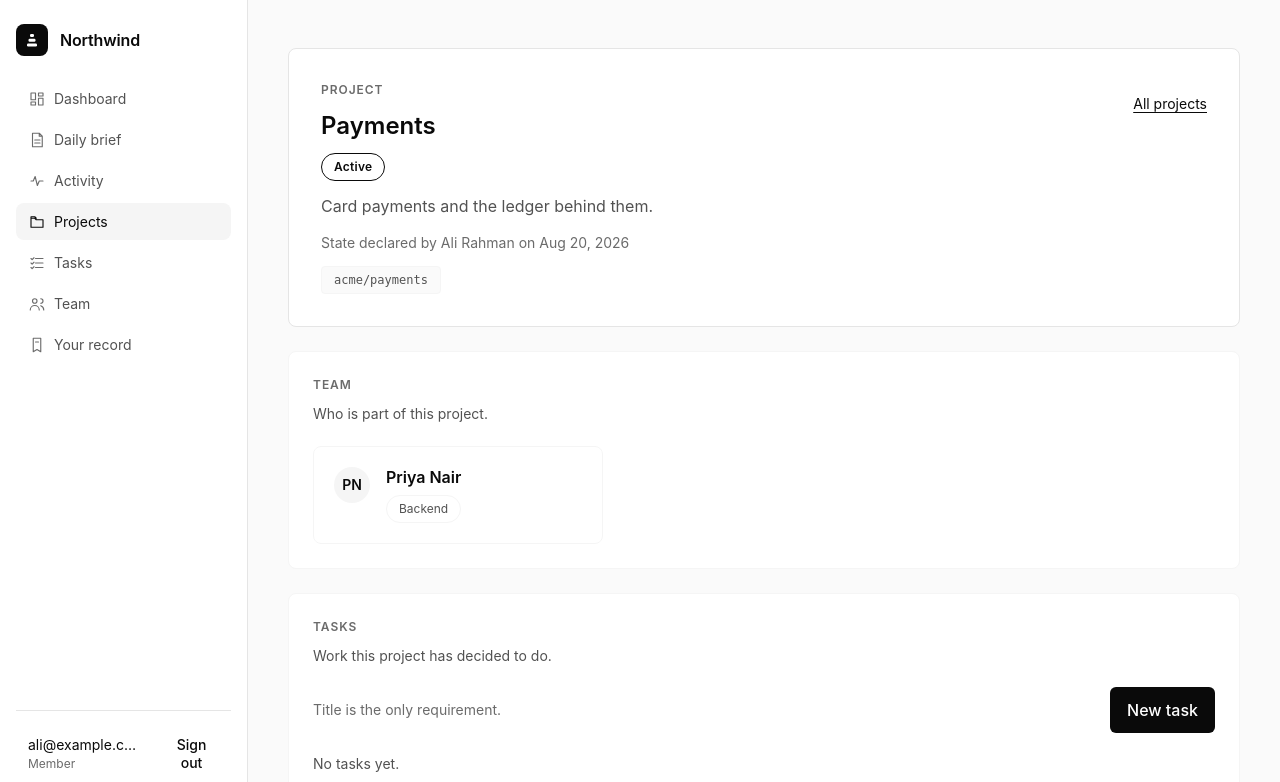
Test case: a project's task board › lets a member create a task and reloads the board with it
The width and height of the screenshot is (1280, 782).
Expected: the text "No tasks yet." is shown, [313,755,399,772]
Click the button "New task": [1163, 710] box [1110,687,1215,733]
(page scrolled)
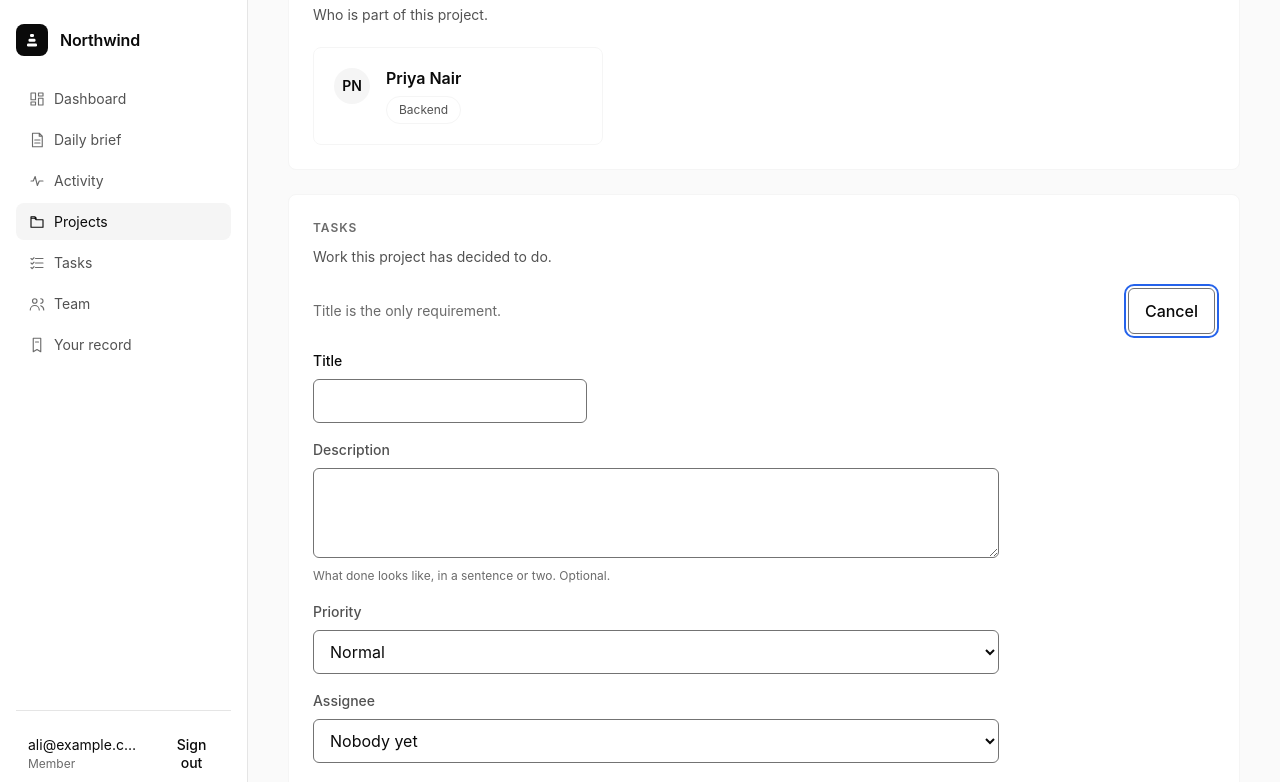
In the field labelled "Title": [450, 401] box [313,379,587,423], type "Ship rate limits"
In the text box labelled "Description": [656, 513] box [313,468,999,558], type "Cap the burst rate."
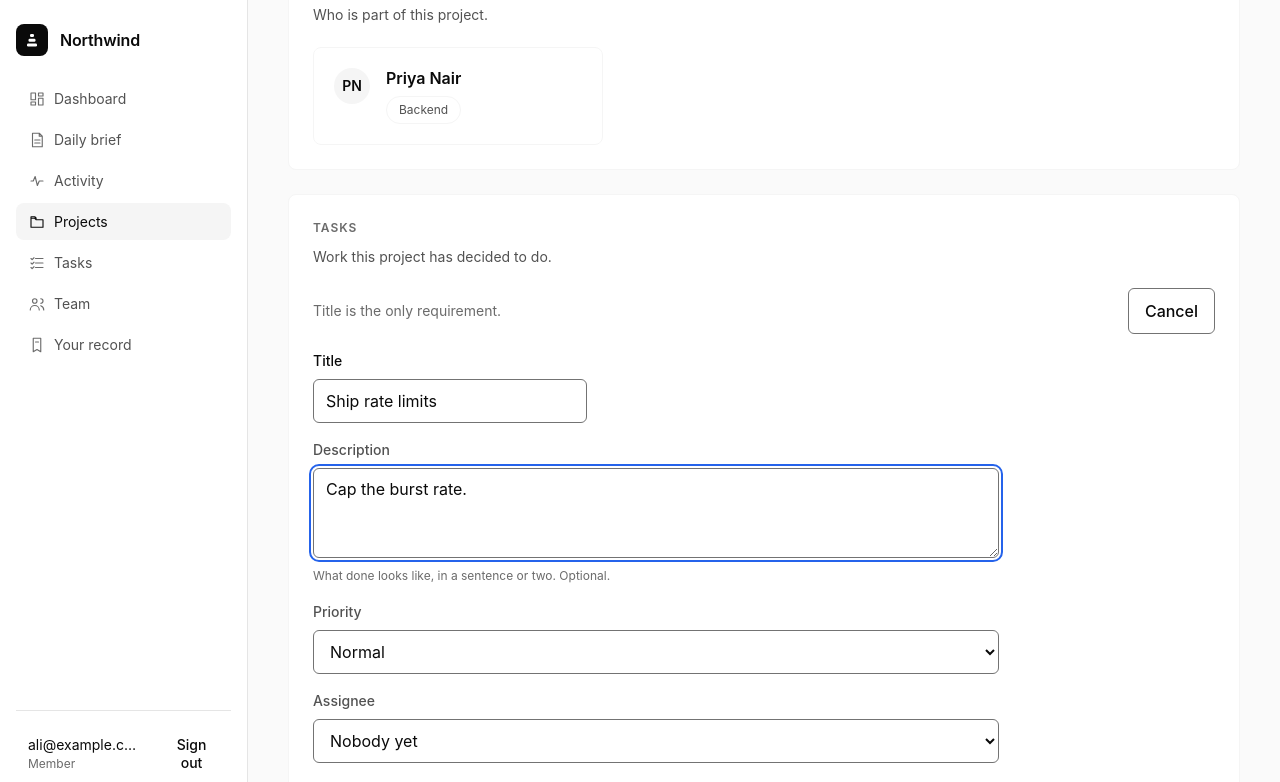
Select "High" in the dropdown labelled "Priority": [656, 652] box [313,630,999,674]
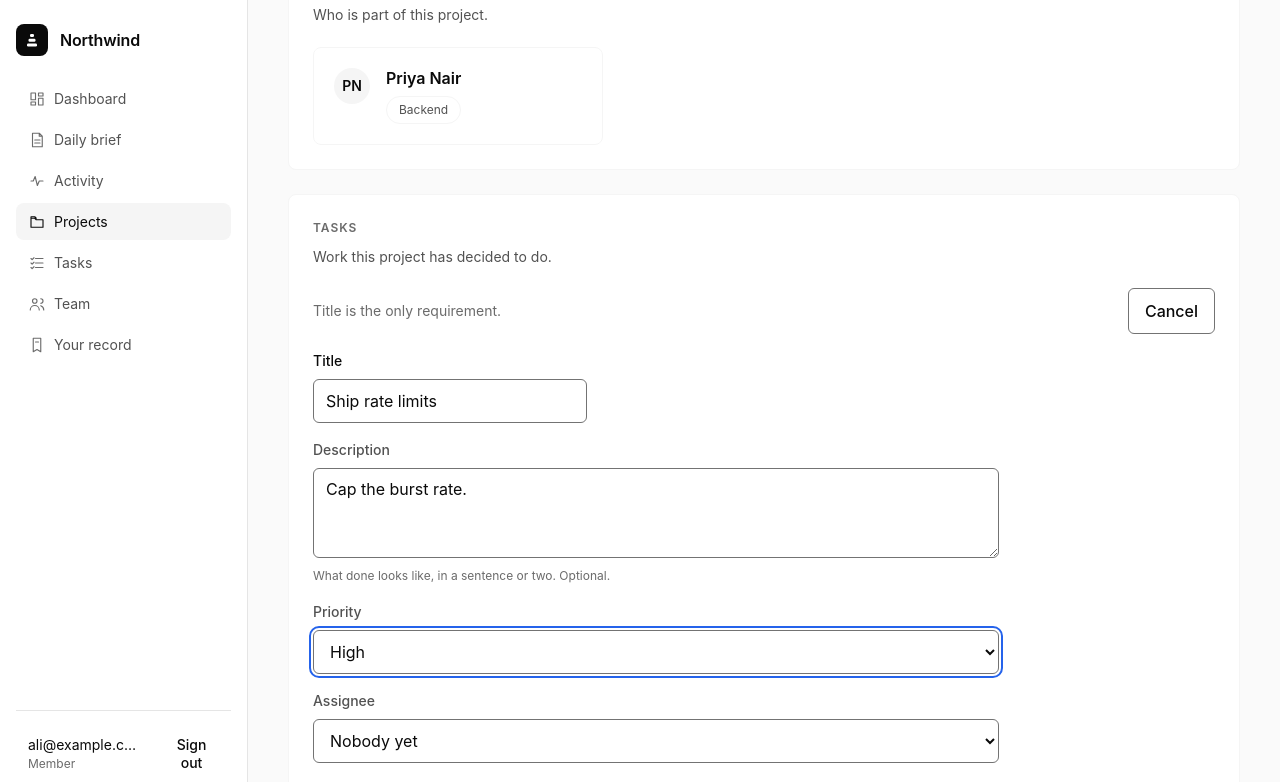
Select "Priya Nair" in the dropdown labelled "Assignee": [656, 742] box [313,720,999,764]
(page scrolled)
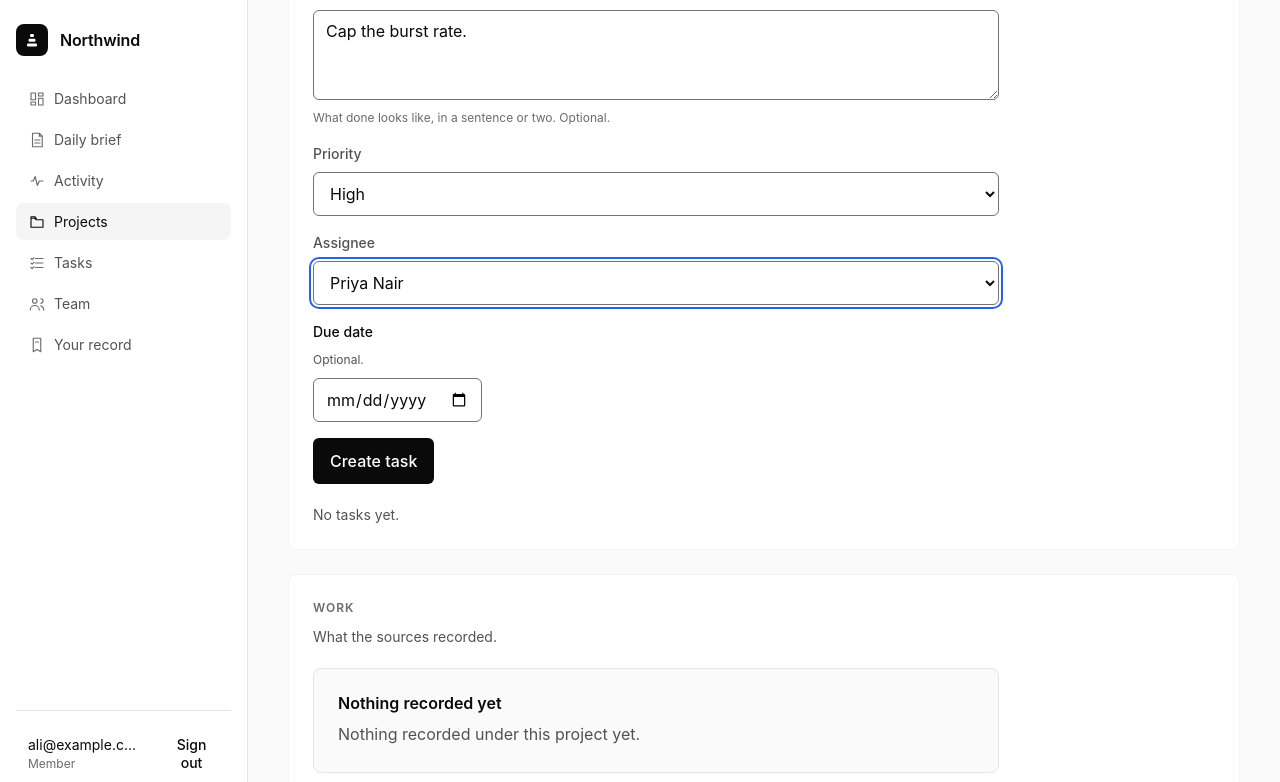
In the date field labelled "Due date": [398, 400] box [313,378,482,422], type "2026-08-30"
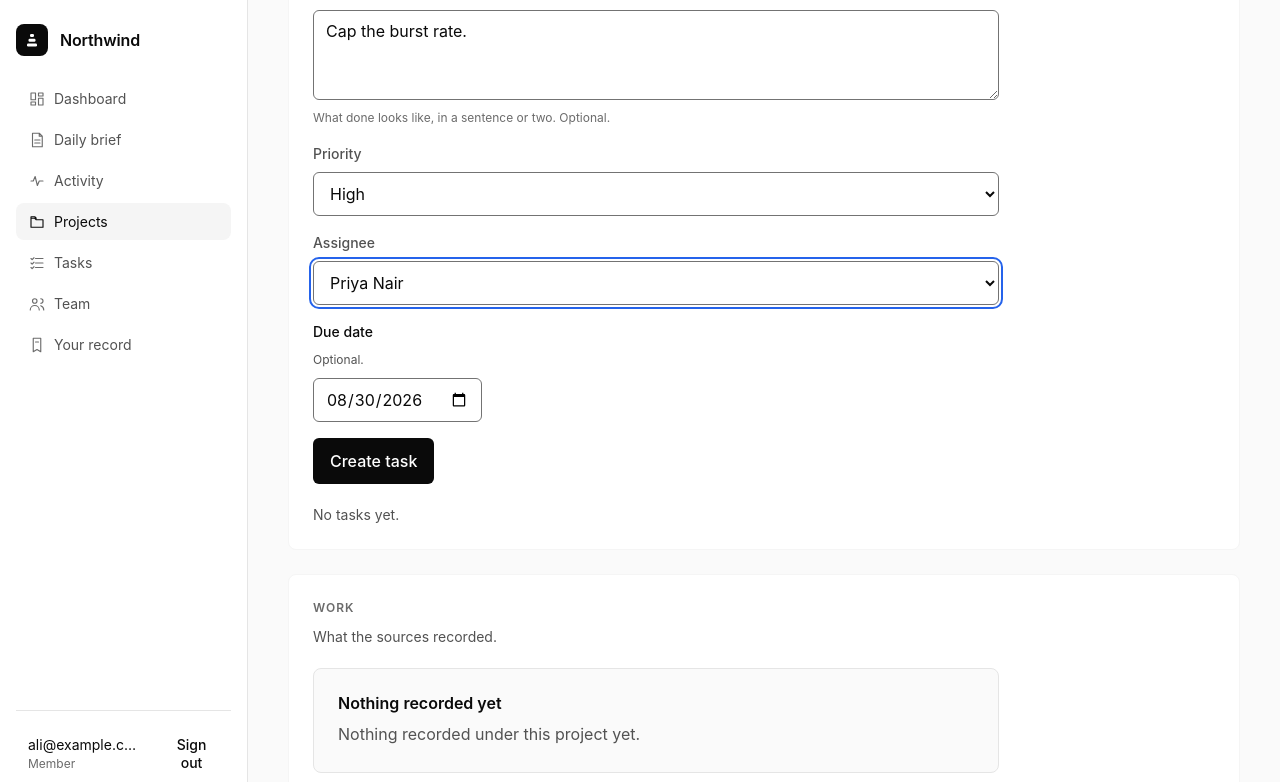
Click the button "Create task": [374, 461] box [313,438,434,484]
(page scrolled)
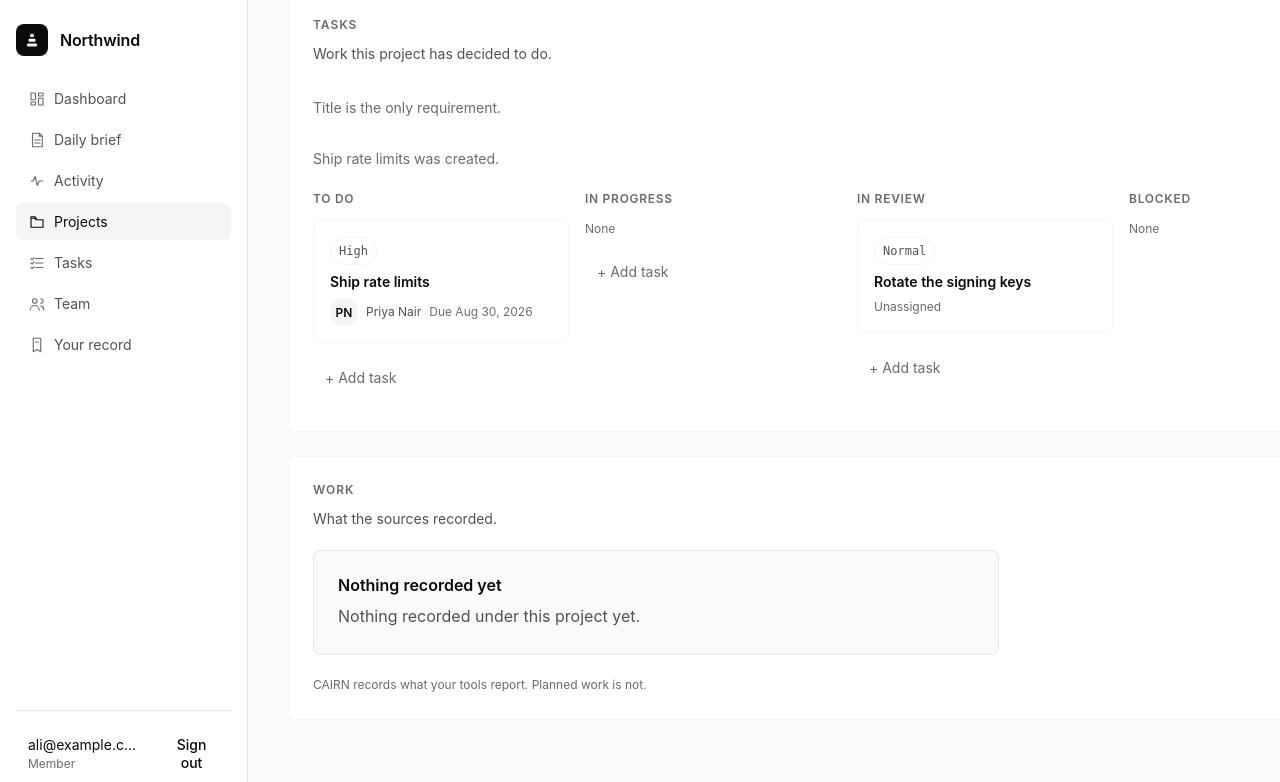
Expected: the text "Ship rate limits was created." is shown, [313,150,499,167]
Expected: the link "Ship rate limits" is shown, [330,273,430,290]
